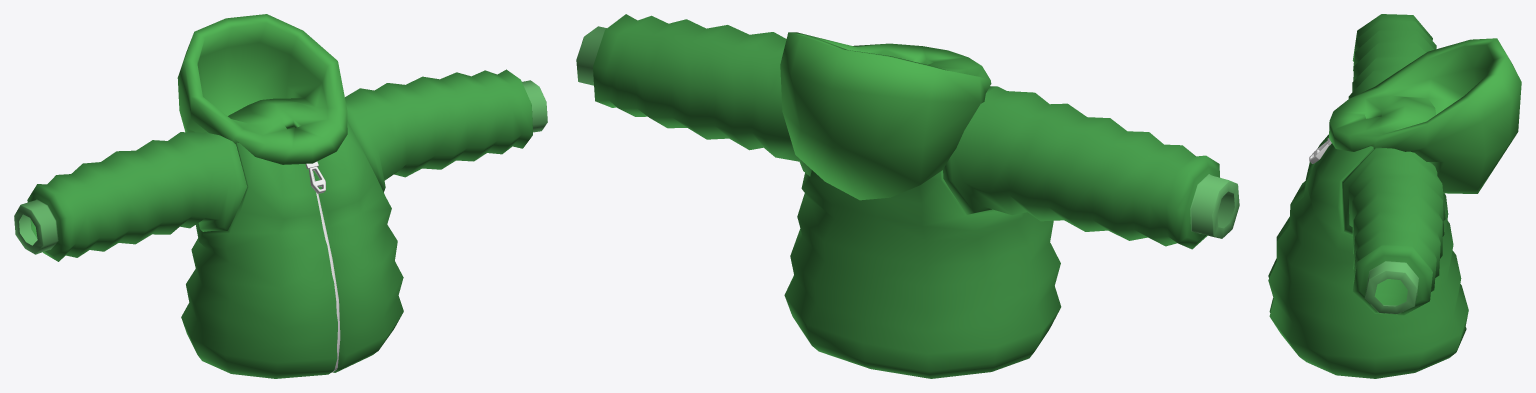
The model's file is Outerwear_Green_005.glb.
3 renders of one model, left to right at view 1: azimuth 30°, elevation 25°; view 2: azimuth 150°, elevation 25°; view 3: azimuth 270°, elevation 25°, orthographic. The views are drawn at different scales.
Visible parts, largest first — view 1: Outerwear_Green_005; view 2: Outerwear_Green_005; view 3: Outerwear_Green_005.
Part boxes in pixels (bbox=[...]): Outerwear_Green_005: bbox=[14, 14, 547, 378]; Outerwear_Green_005: bbox=[576, 14, 1239, 378]; Outerwear_Green_005: bbox=[1268, 14, 1521, 378].
Size of the model in its own units: 1.3 by 0.677 by 0.5446.
1 material, 1 textured.
